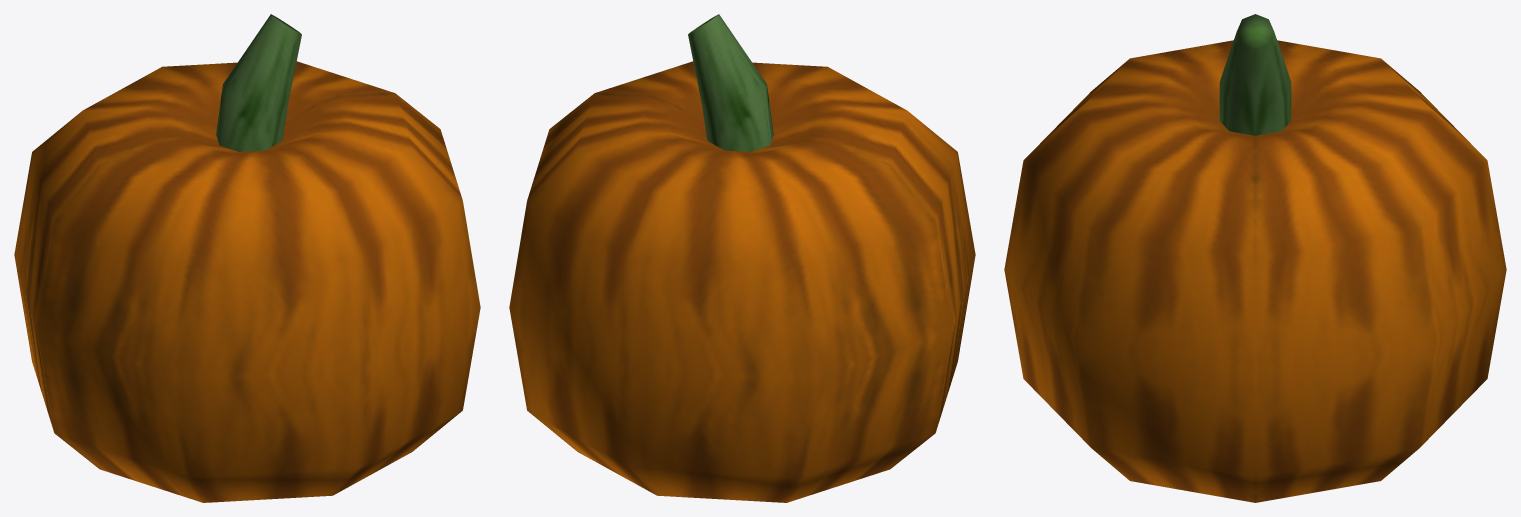
The model's file is Pumpkin2_Geo 1.fbx.
3 renders of one model, left to right at view 1: azimuth 30°, elevation 25°; view 2: azimuth 150°, elevation 25°; view 3: azimuth 270°, elevation 25°, orthographic. The views are drawn at different scales.
Visible parts, largest first — view 1: Pumpkin_Geo; view 2: Pumpkin_Geo; view 3: Pumpkin_Geo.
Boxes of the visible parts, left/top/right/bottom form: Pumpkin_Geo: left=14, top=14, right=480, bottom=502; Pumpkin_Geo: left=509, top=14, right=975, bottom=502; Pumpkin_Geo: left=1004, top=14, right=1506, bottom=502.
Size of the model in its own units: 51.24 by 49.28 by 51.24.
